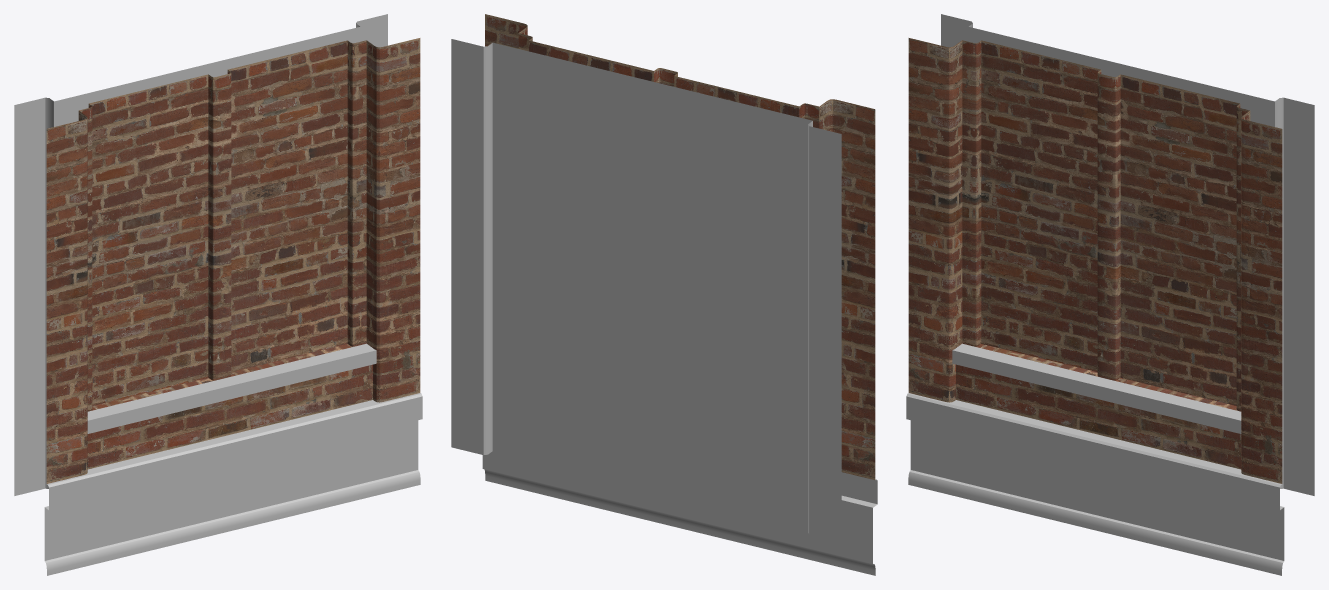
The model's file is SM_Wall_A.fbx.
The picture shows the model from 3 angles, left to right: view 1: azimuth 30°, elevation 25°; view 2: azimuth 150°, elevation 25°; view 3: azimuth 330°, elevation 25°; orthographic projection. The views are drawn at different scales.
Visible parts, largest first — view 1: SM_Wall_A; view 2: SM_Wall_A; view 3: SM_Wall_A.
Part boxes in pixels (x1=…): SM_Wall_A: x1=14, y1=14, x2=422, y2=575; SM_Wall_A: x1=451, y1=14, x2=877, y2=575; SM_Wall_A: x1=906, y1=14, x2=1314, y2=575.
Bounding box in the file's own units: 700 × 112 × 800.
